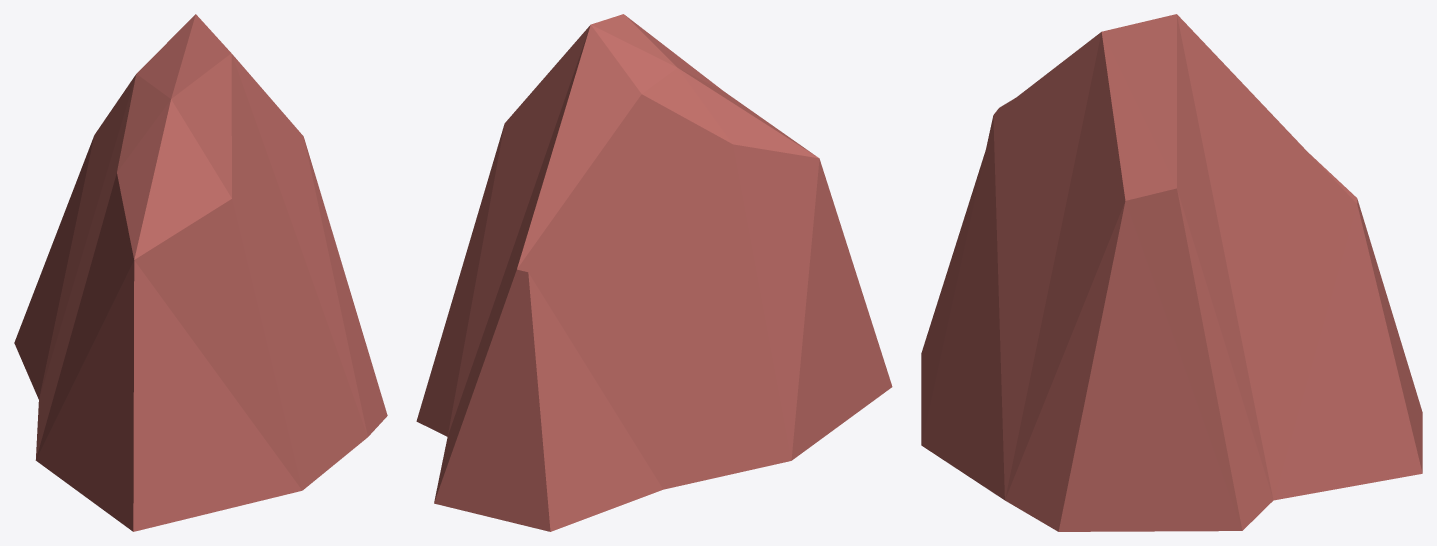
Rendered from removableRock2.fbx.
3 views of the same model, side by side, from view 1: azimuth 30°, elevation 25°; view 2: azimuth 150°, elevation 25°; view 3: azimuth 270°, elevation 25° (orthographic). The views are drawn at different scales.
Visible parts, largest first — view 1: Cube.009; view 2: Cube.009; view 3: Cube.009.
Part boxes in pixels (x1,y1,x2,y2): Cube.009: [14, 14, 387, 531]; Cube.009: [416, 14, 892, 531]; Cube.009: [921, 14, 1422, 531].
Size of the model in its own units: 378 by 453 by 465.
